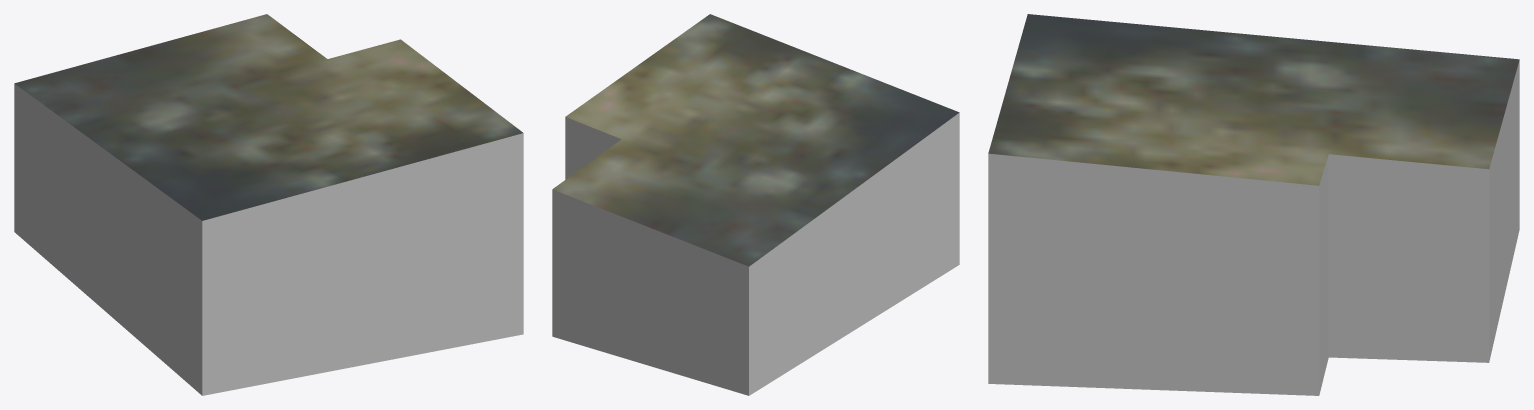
The model's file is DEBW_0010007TxgJ.gltf.
3 views of the same model, side by side, from view 1: azimuth 30°, elevation 25°; view 2: azimuth 150°, elevation 25°; view 3: azimuth 270°, elevation 25° (orthographic). The views are drawn at different scales.
Visible parts, largest first — view 1: Z_UP; view 2: Z_UP; view 3: Z_UP.
Boxes of the visible parts, x1,y1,x2,y2 form: Z_UP: [14, 14, 523, 395]; Z_UP: [552, 14, 959, 395]; Z_UP: [988, 14, 1519, 395].
Bounding box in the file's own units: 6.76 × 3.99 × 8.35.
2 materials, 1 textured.
